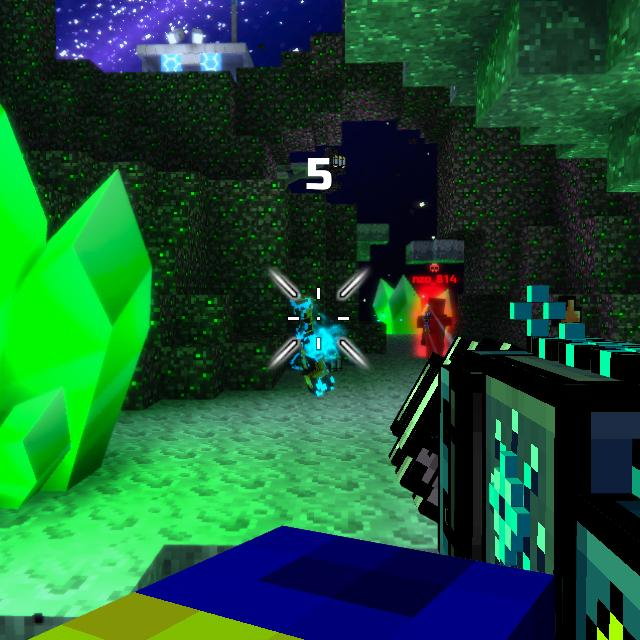Enemy: (416, 297, 452, 359)
